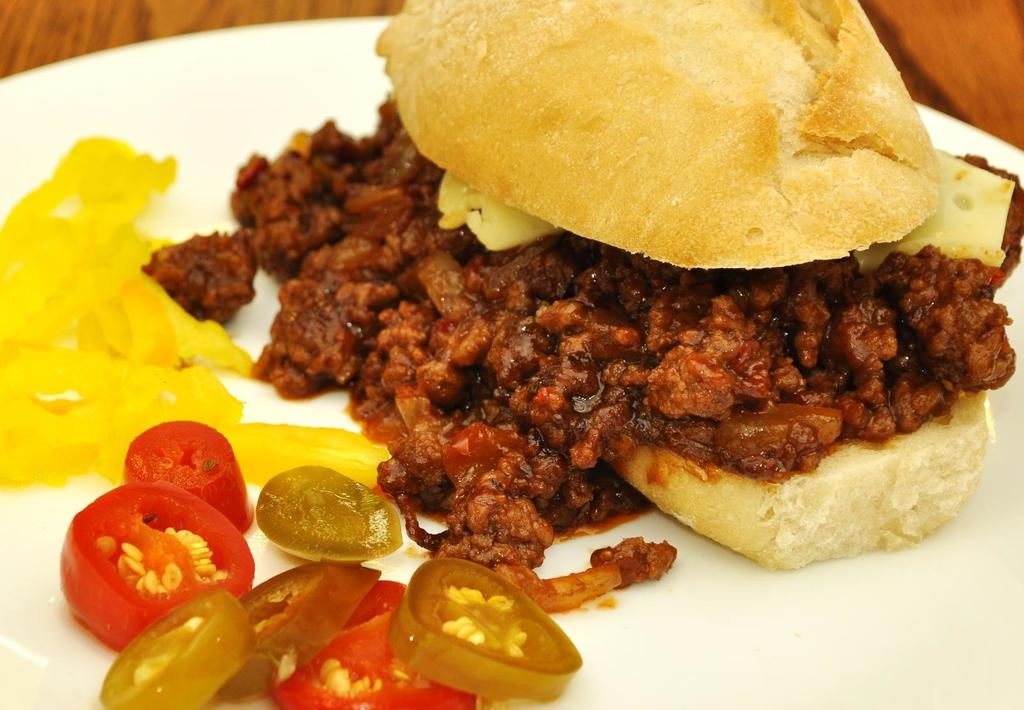sandwich: (371, 0, 1023, 571)
